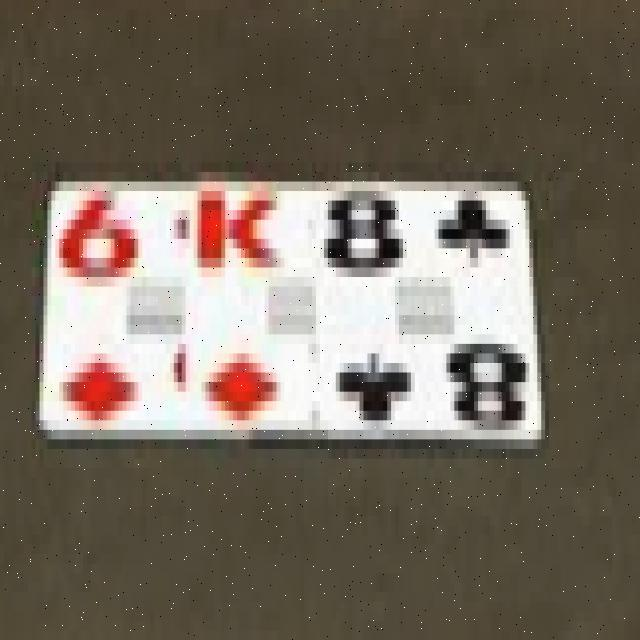Card-6: (41, 172, 190, 442)
Card-8: (317, 180, 539, 440)
Card-K: (190, 174, 315, 436)
